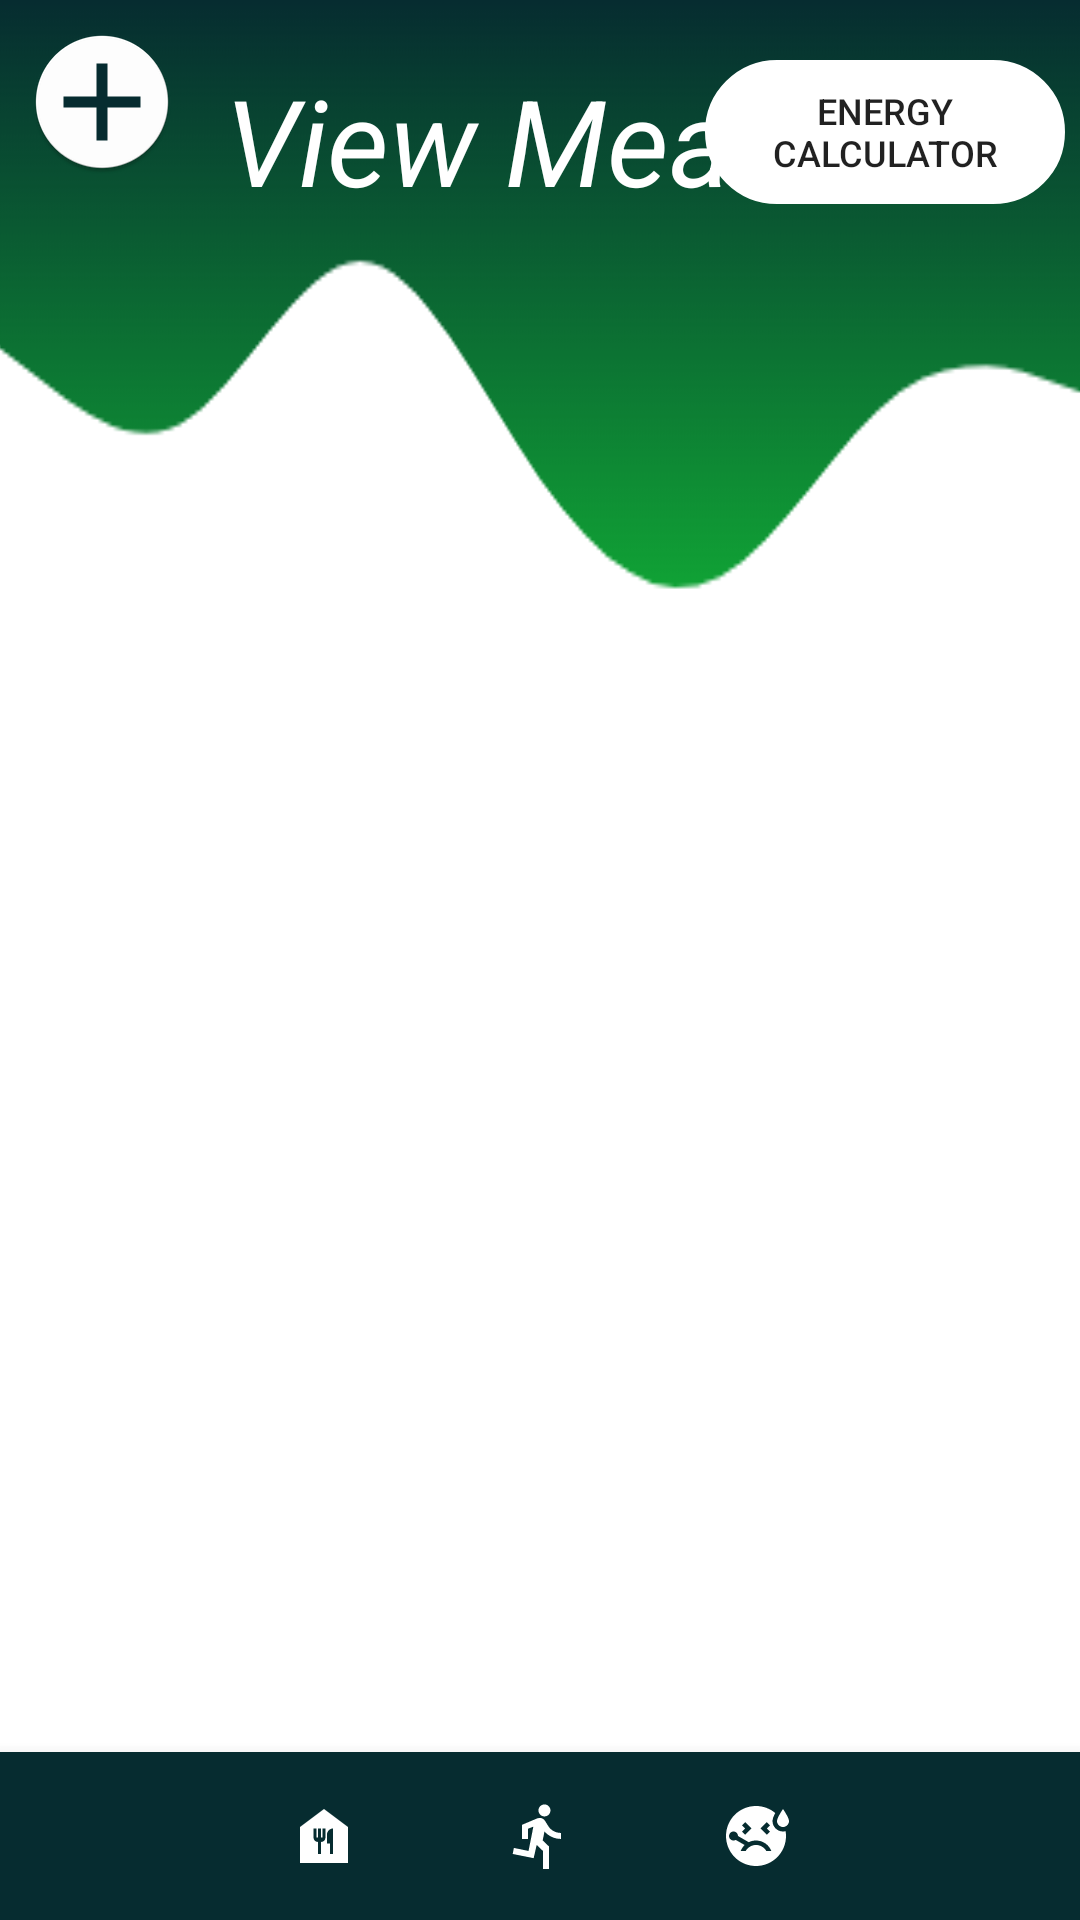

Locate icon controls on the screen. Image size 1080px x 1920px, boxes as detection(x1, y1, x2, y2).
add: detection(35, 35, 169, 168)
